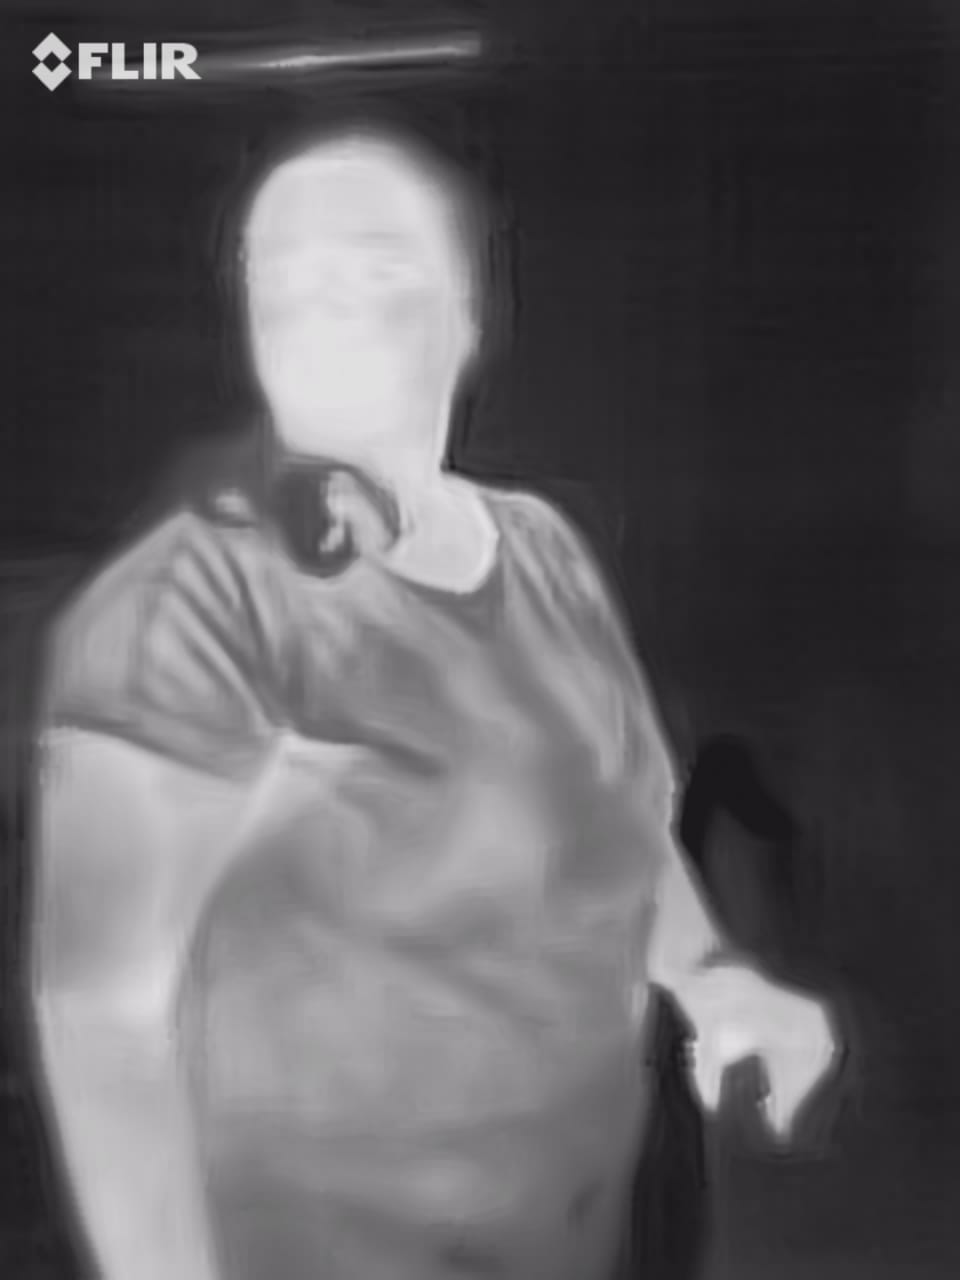head: (232, 133, 511, 485)
